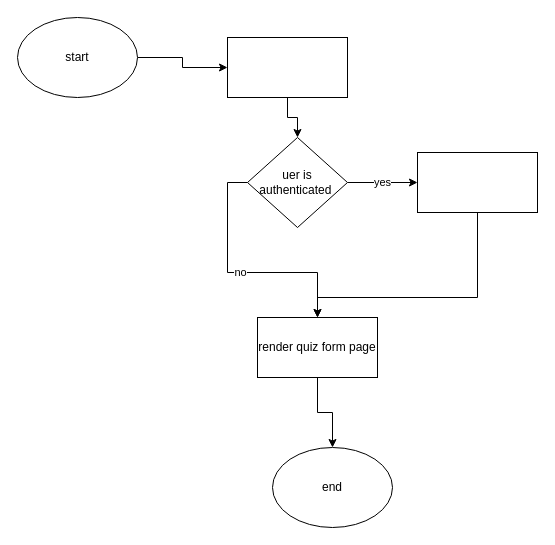
Image size: 555x545. Some labels were removed from this diagram. Here are the shapes that lost their labels. From the top down, the box of each, then its label:
(226, 36, 348, 98): fetch request
(416, 152, 538, 212): get the number of unread notifications
